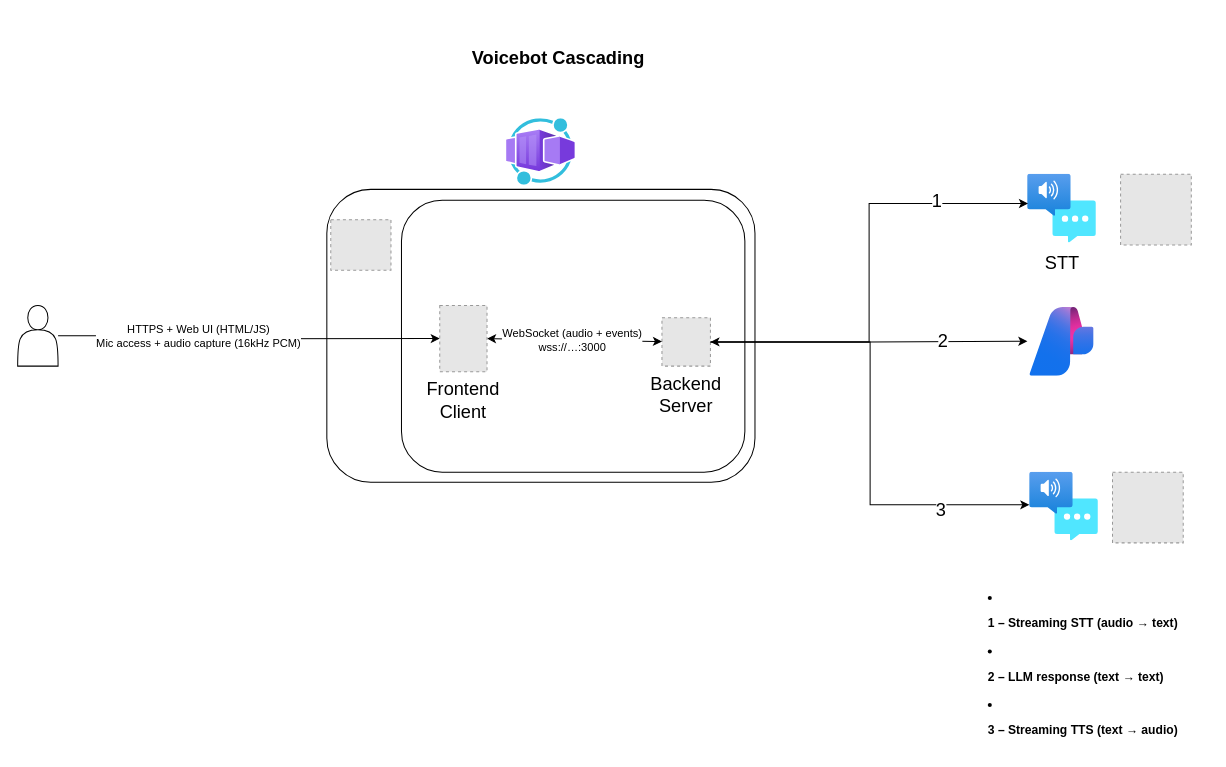
Image size: 1226x767. Some labels were removed from this diagram. Grey dashed boxes stand in for pictures. The centre of each missing label's shape, as x and y in pixels:
LLM OpenAI GPT-40-mini: pixel 1061 341
TTS: pixel 1063 506
